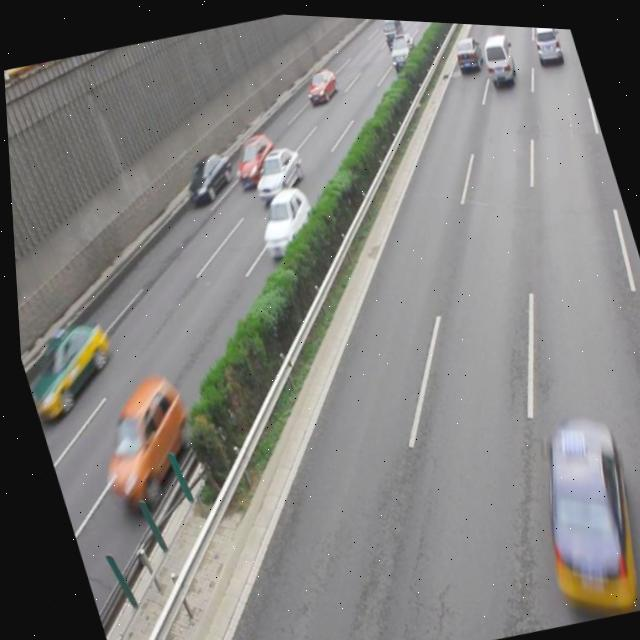car: (505, 396, 640, 621), (75, 365, 206, 519), (14, 311, 123, 424), (247, 177, 319, 258), (223, 123, 284, 190), (174, 143, 238, 205), (242, 137, 306, 198)
